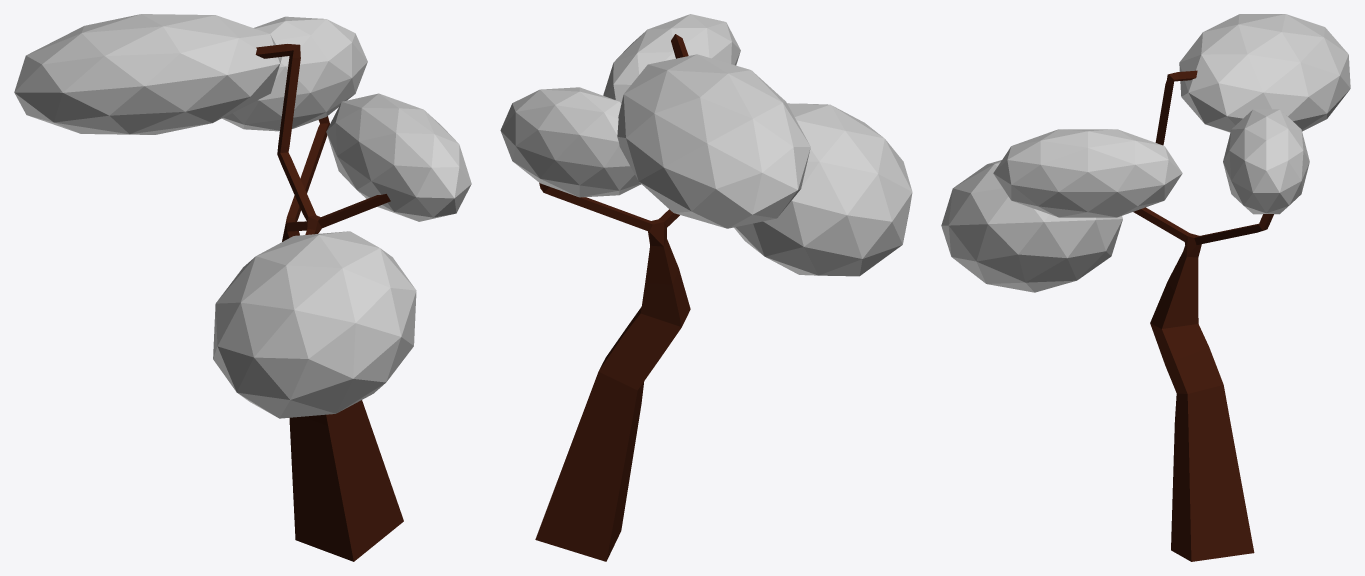
Rendered from Basic_tree_1.obj.
The picture shows the model from 3 angles, left to right: view 1: azimuth 30°, elevation 25°; view 2: azimuth 150°, elevation 25°; view 3: azimuth 270°, elevation 25°; orthographic projection. The views are drawn at different scales.
Parts seen in each view (by area): view 1: Leaves, Bark; view 2: Leaves, Bark; view 3: Leaves, Bark.
Boxes of the visible parts, left/top/right/bottom form: Leaves: left=14, top=14, right=471, bottom=418; Bark: left=255, top=44, right=403, bottom=561; Leaves: left=500, top=14, right=912, bottom=276; Bark: left=535, top=34, right=690, bottom=561; Leaves: left=941, top=14, right=1350, bottom=292; Bark: left=1133, top=70, right=1273, bottom=561.
Bounding box in the file's own units: 4.12 × 6.6 × 5.29.
